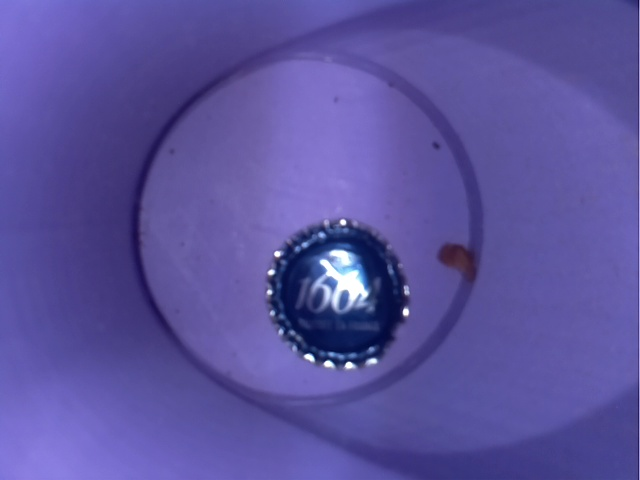capsule: (251, 214, 425, 380)
croquette: (435, 228, 480, 289)
